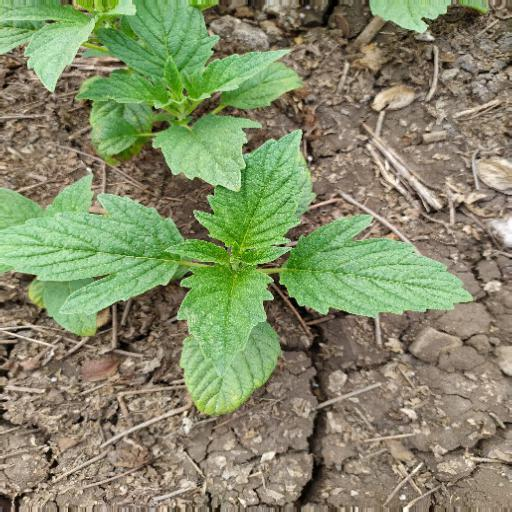crop: (8, 127, 477, 405), (1, 4, 310, 197)
